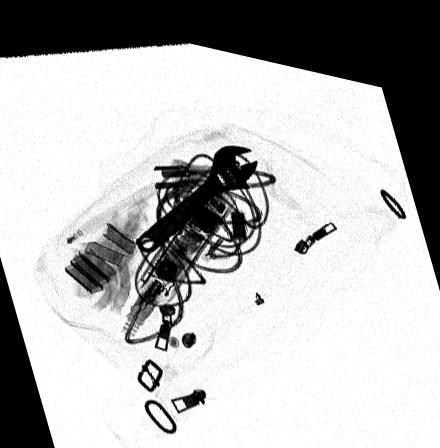Wrench: (134, 133, 259, 248)
